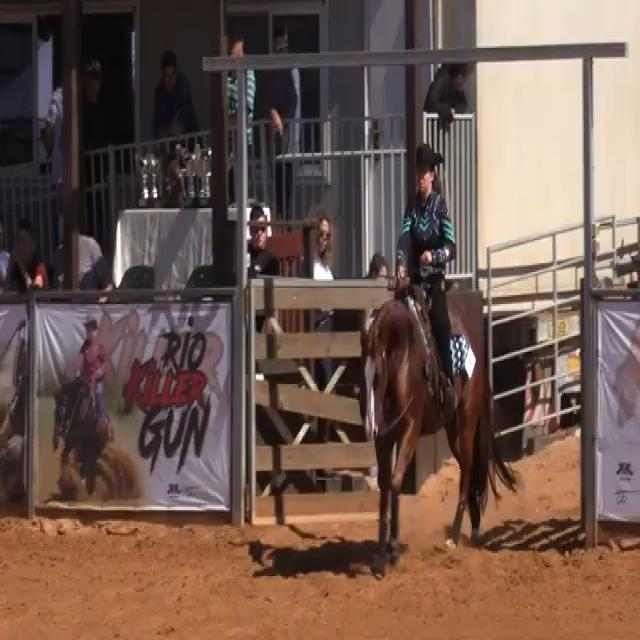horse: (358, 281, 518, 574)
